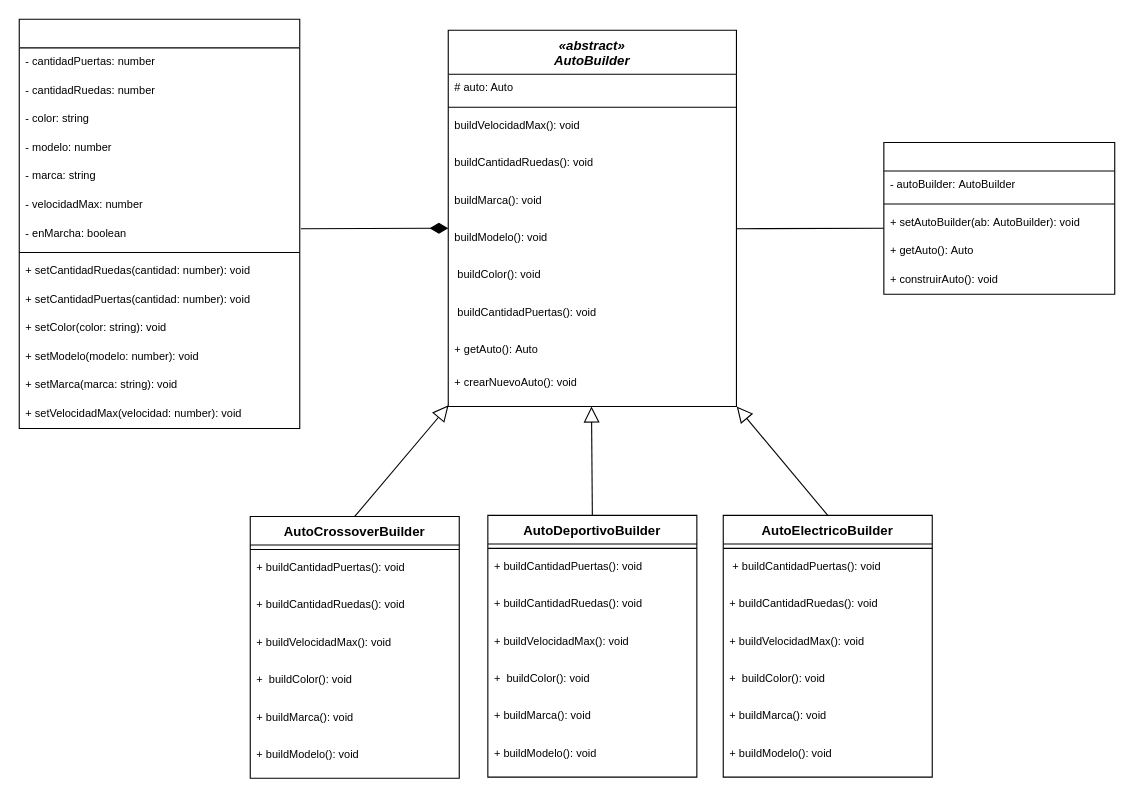
This 1134x801 diagram has some shape labels left out. Here are the shapes that lost their labels. From the top down, the box of each, then its label:
(18, 18, 300, 428): Auto
(883, 141, 1115, 294): RegistroAutomotor
